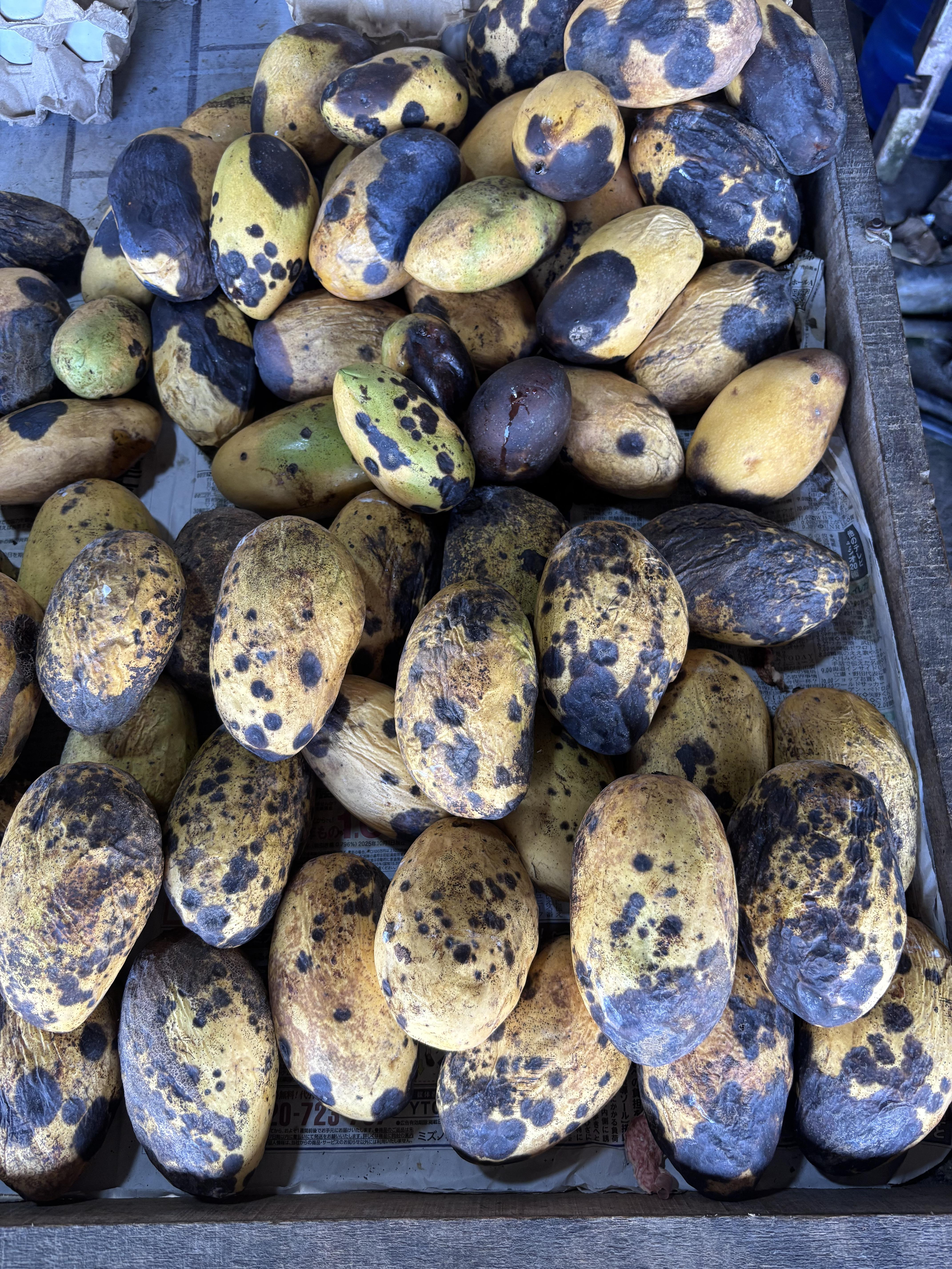mango: (571, 774, 738, 1066), (728, 760, 906, 1027), (119, 931, 278, 1199), (209, 515, 364, 761), (374, 818, 538, 1050), (535, 520, 688, 754), (394, 581, 538, 819), (36, 530, 186, 734), (537, 207, 703, 365), (686, 348, 849, 507), (333, 363, 475, 514), (210, 133, 318, 319), (512, 71, 624, 202), (52, 295, 152, 399)
occluded: (0, 762, 163, 1032), (437, 936, 629, 1163), (795, 919, 952, 1179), (269, 853, 417, 1122), (638, 952, 794, 1198), (164, 724, 312, 947), (641, 503, 849, 646), (773, 687, 919, 889), (629, 101, 801, 267), (623, 259, 794, 415), (309, 127, 461, 300), (627, 649, 773, 828), (302, 675, 449, 846), (0, 995, 121, 1201), (501, 704, 615, 900), (724, 0, 847, 175), (330, 488, 438, 686), (564, 0, 761, 108), (108, 128, 225, 302), (60, 675, 198, 821), (211, 396, 371, 519), (404, 176, 566, 292), (19, 478, 159, 609), (167, 508, 264, 697), (251, 23, 373, 170), (441, 485, 569, 623), (0, 397, 161, 505), (526, 159, 643, 304), (253, 290, 404, 402), (559, 367, 684, 499), (560, 367, 684, 498), (151, 292, 256, 446), (320, 46, 469, 146), (465, 357, 572, 483), (405, 281, 538, 378), (466, 0, 576, 103), (0, 268, 70, 416), (381, 313, 478, 419), (0, 191, 90, 294), (0, 574, 43, 781), (81, 208, 153, 309), (460, 89, 531, 183), (180, 86, 253, 146)
